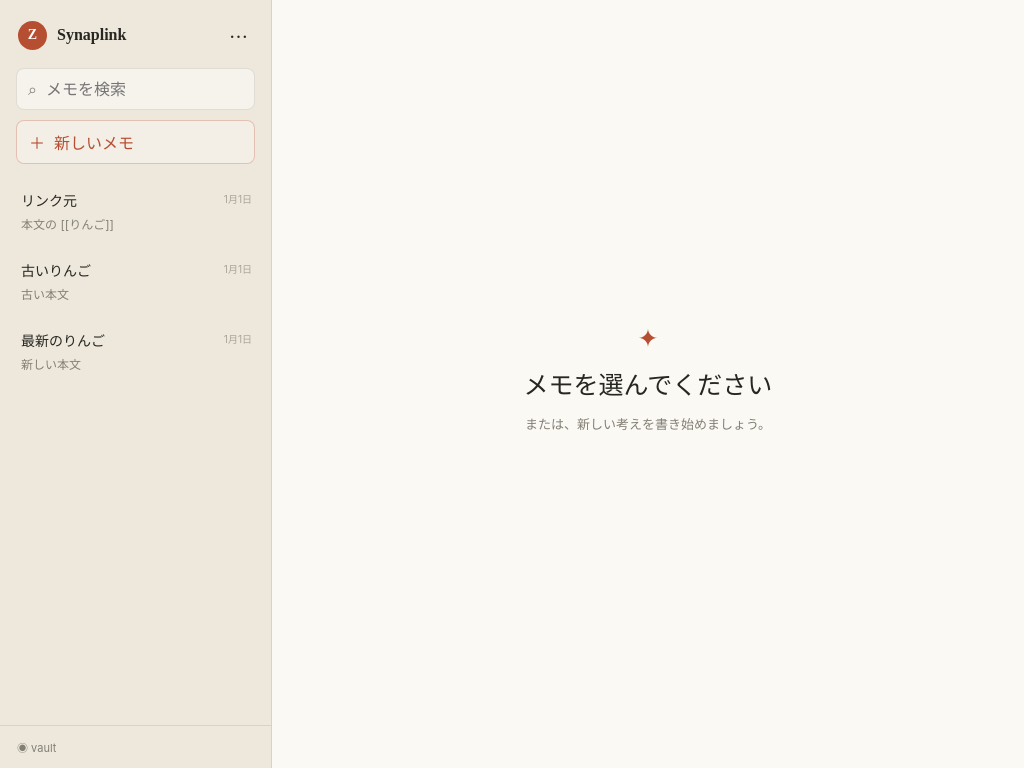
Test: App › 専用の関連画面と右側パネルを表示しない
This screenshot has width=1024, height=768.
Click the button "リンク元" at (136, 211), box [9,176,262,246]
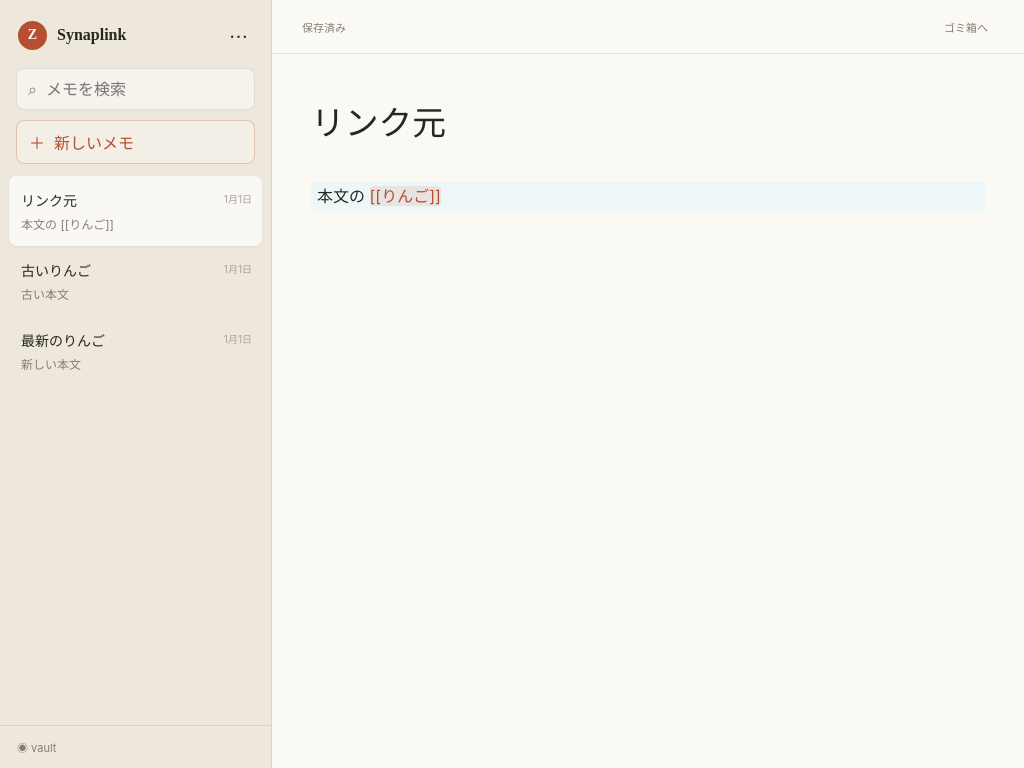
Expected: the field showing "リンク元" is shown, [307,102,989,162]
